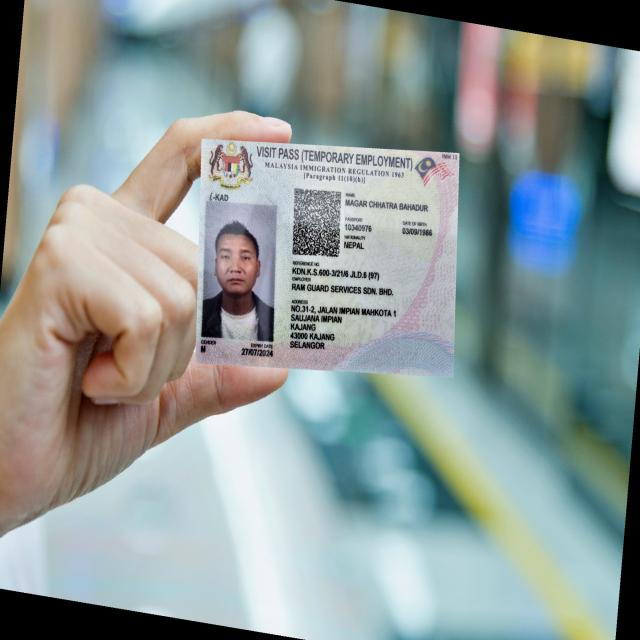ikad-temp: (195, 138, 459, 377)
